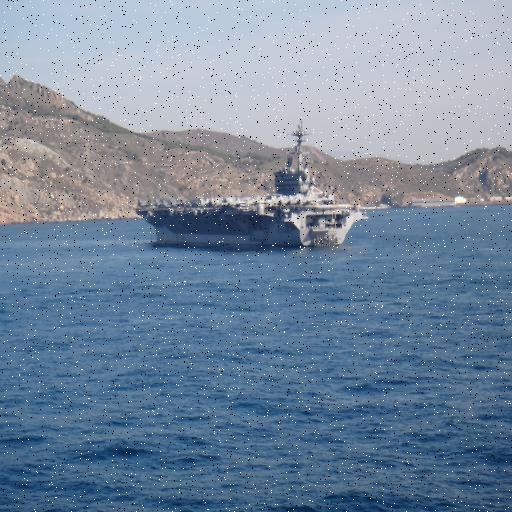Portanaves: (129, 115, 379, 255)
